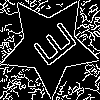E: (24, 20, 79, 75)
